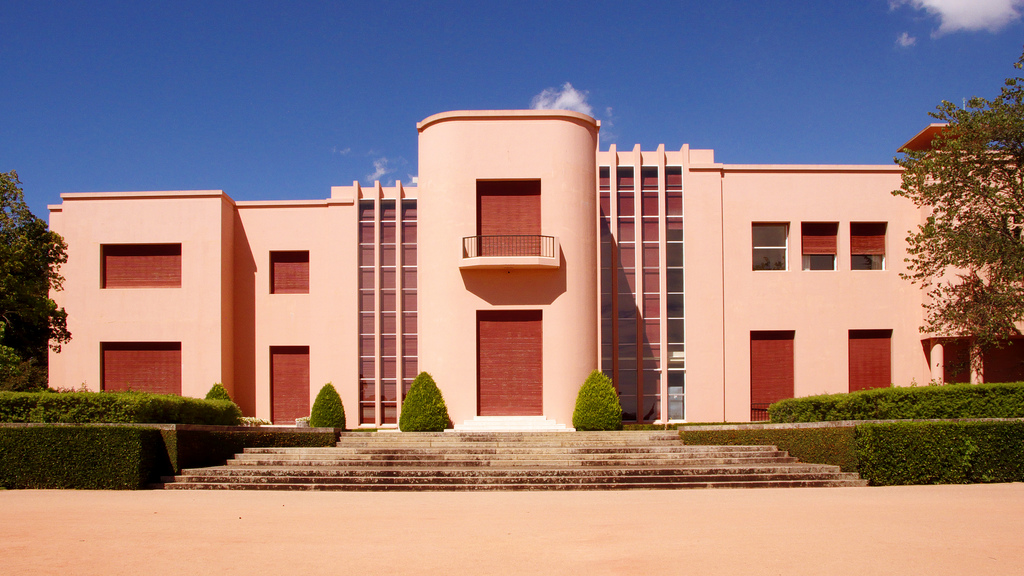serralves: (43, 107, 1023, 431)
